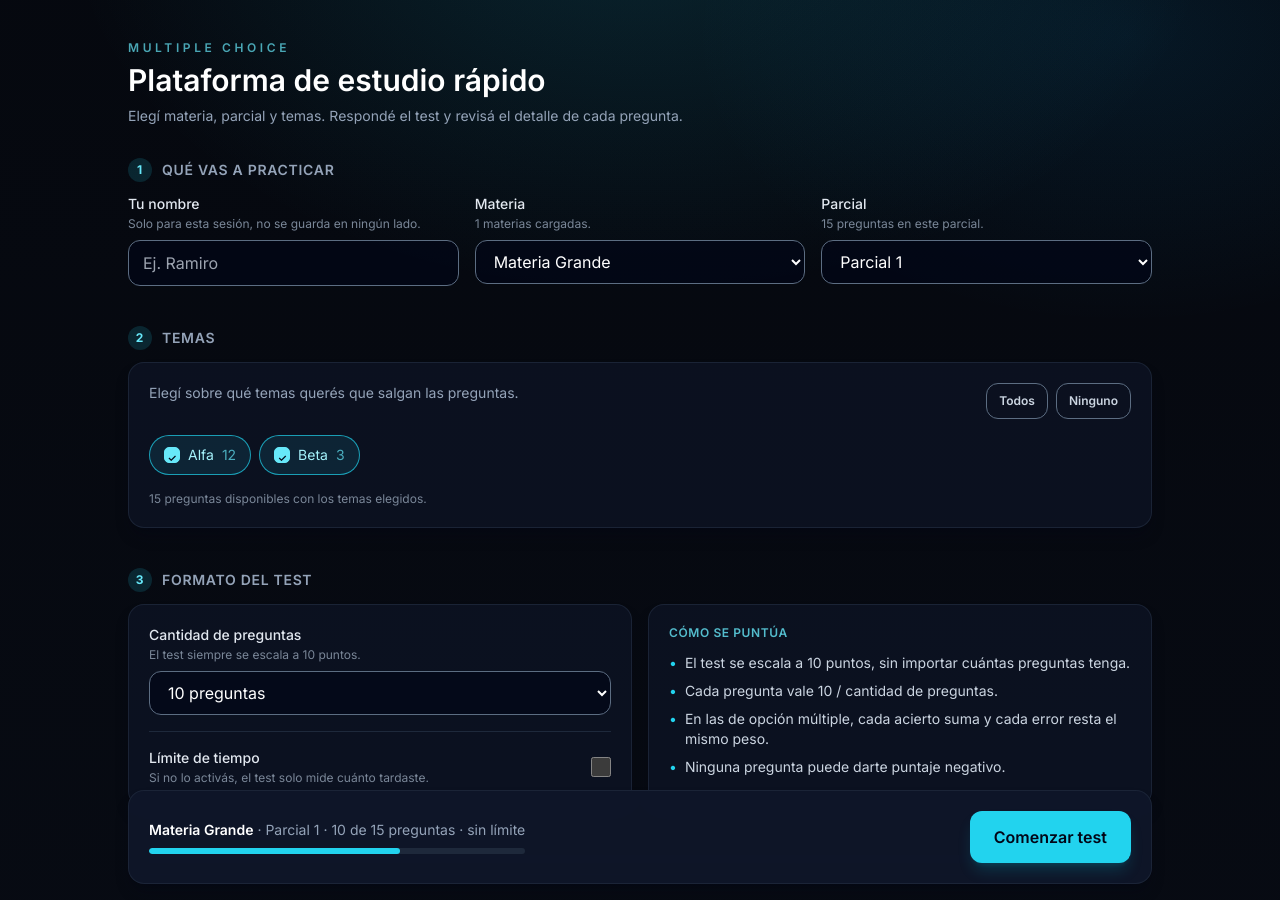
TestApp · pantalla de inicio › deshabilita el inicio si no queda ningún tema seleccionado
This screenshot has width=1280, height=900.
Click the button "Ninguno": (1093, 401) left=1056, top=383, right=1131, bottom=419
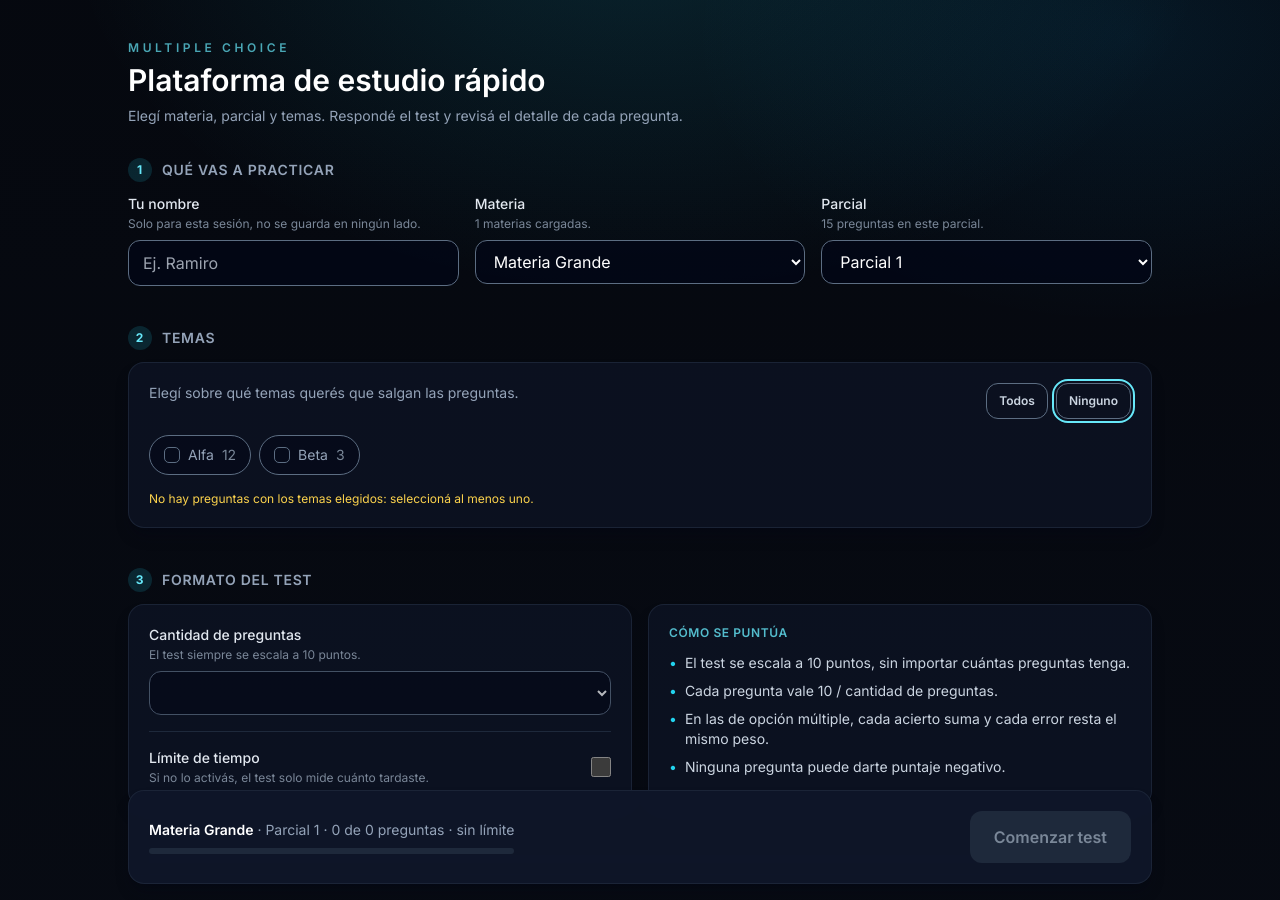
expect the text "No hay preguntas con los temas elegidos: seleccioná al menos uno." is shown: met, box left=149, top=491, right=534, bottom=506
expect the button "Comenzar test" is disabled: met, box left=970, top=811, right=1131, bottom=863
